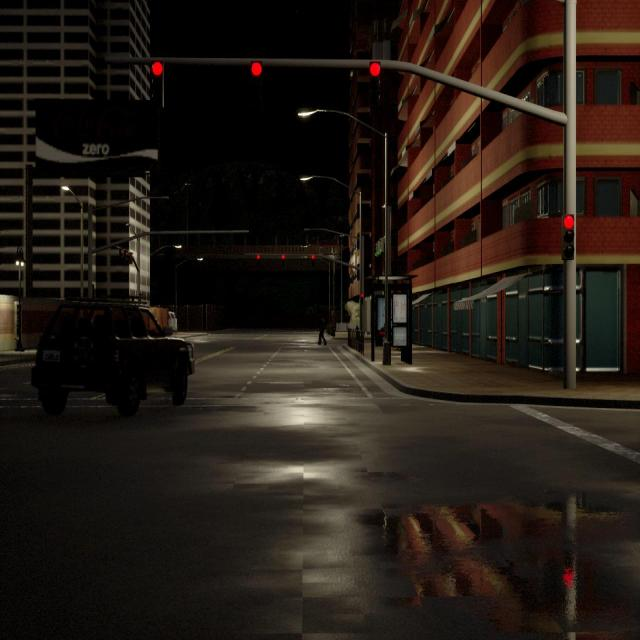Pedestrian: (318, 318, 327, 345)
Vehicle: (32, 303, 194, 414), (168, 312, 178, 331)
traffic_light: (369, 62, 381, 110), (150, 60, 163, 104), (250, 61, 262, 107), (562, 214, 574, 260), (119, 249, 124, 266), (124, 251, 128, 266), (361, 293, 364, 305), (129, 253, 132, 264), (257, 254, 260, 260), (282, 254, 284, 260), (312, 255, 314, 260)
